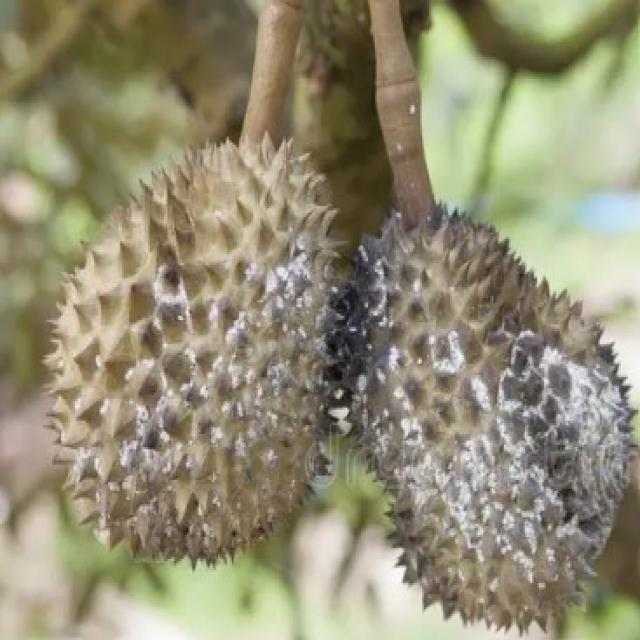defective: (36, 127, 343, 566), (343, 198, 634, 634)
